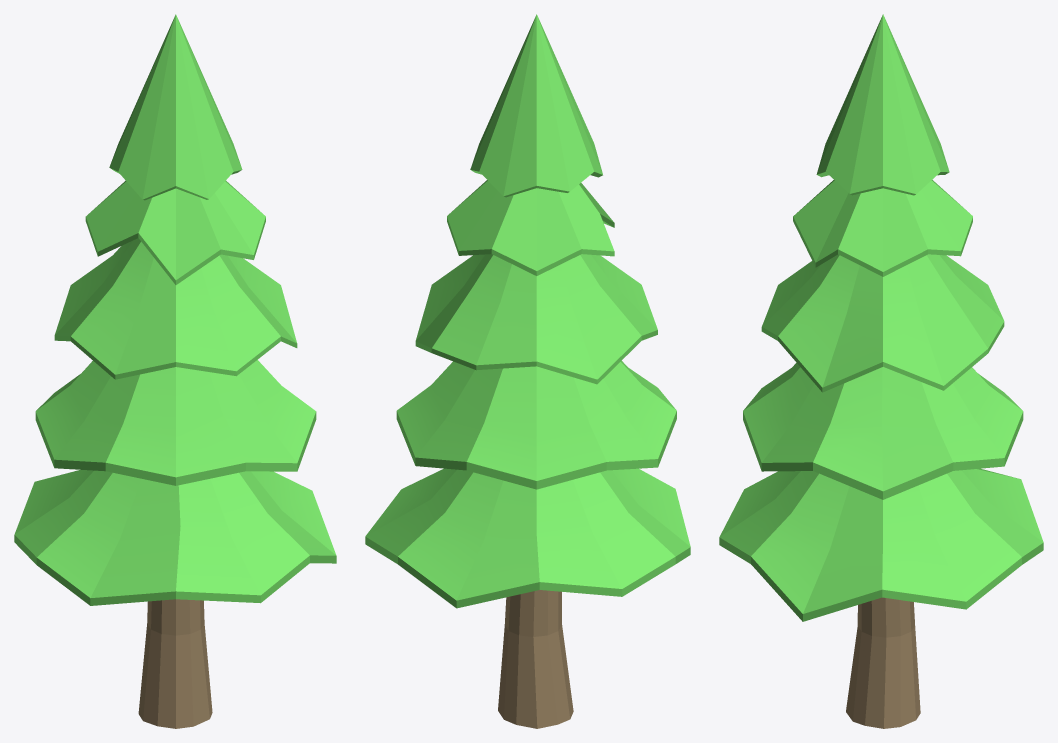
The model's file is tree 5.fbx.
3 views of the same model, side by side, from view 1: azimuth 30°, elevation 25°; view 2: azimuth 150°, elevation 25°; view 3: azimuth 270°, elevation 25° (orthographic).
Visible parts, largest first — view 1: tree_005_green; view 2: tree_005_green; view 3: tree_005_green.
Boxes of the visible parts, x1,y1,x2,y2 form: tree_005_green: (14, 14, 336, 728); tree_005_green: (365, 14, 690, 728); tree_005_green: (719, 14, 1043, 728).
Bounding box in the file's own units: 1.77 × 4.29 × 1.8.
